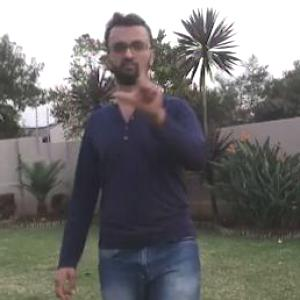land_hand: (112, 50, 166, 115)
